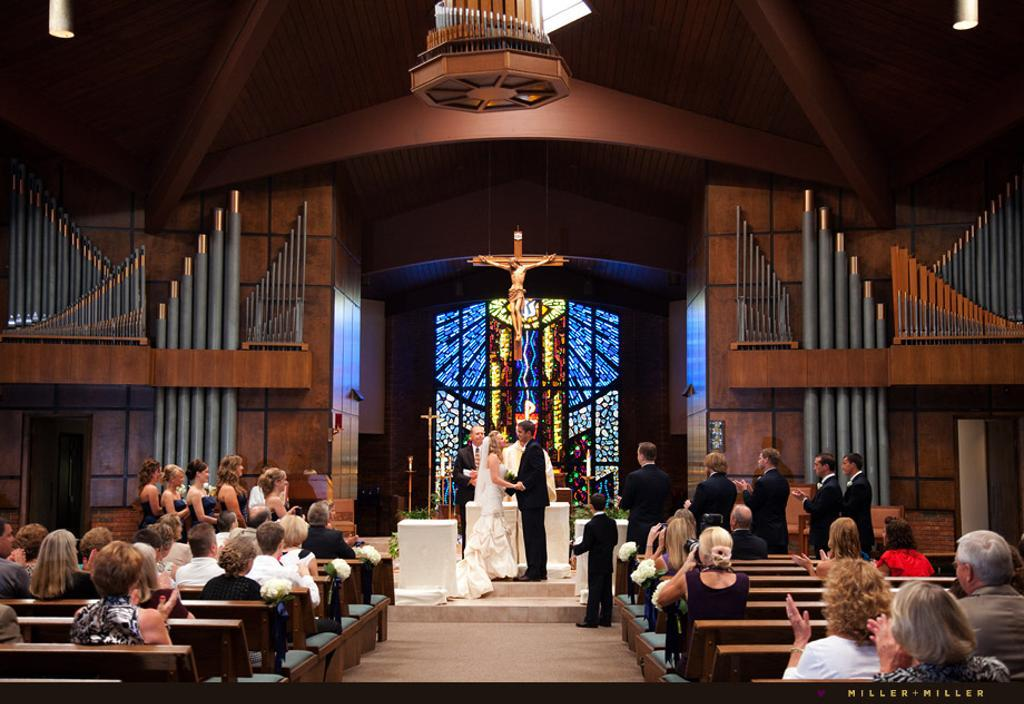face: (955, 551, 974, 594), (1, 526, 16, 556), (814, 459, 828, 478), (882, 525, 893, 546), (472, 428, 484, 444), (759, 453, 770, 469), (152, 466, 162, 482), (843, 460, 853, 476), (496, 434, 507, 448), (200, 467, 210, 482), (234, 461, 244, 476), (277, 475, 286, 491), (174, 473, 185, 486), (519, 427, 528, 442), (327, 506, 336, 521), (638, 447, 645, 465), (510, 261, 517, 270)
